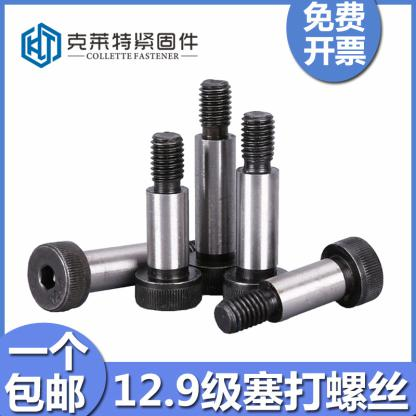FOD: (211, 233, 386, 336), (222, 109, 291, 306), (131, 128, 205, 310), (183, 80, 245, 296), (25, 239, 207, 312)
